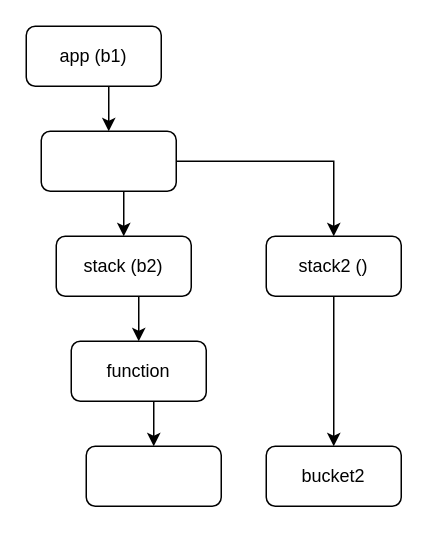
Some shapes in this 428 by 533 pixel diagram are drawn without their labels. The box of each missing label's shape, as (x1, y1, x2, y2) in pixels:
bucket: (85, 445, 221, 506)
stage (f1): (40, 130, 176, 191)
